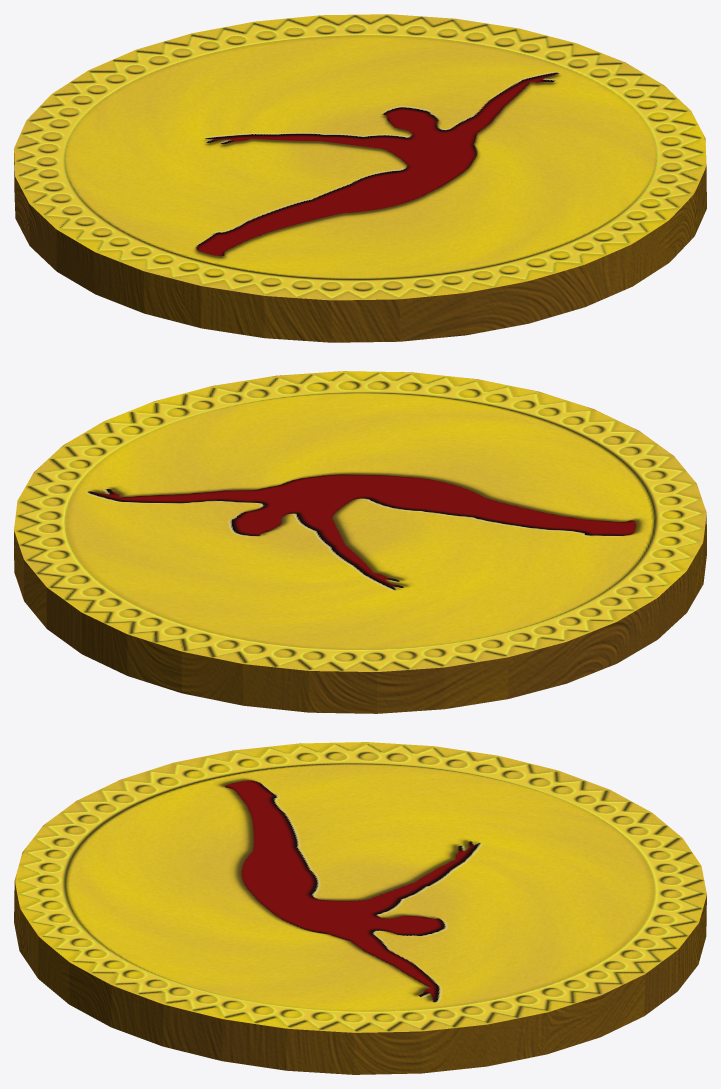
Rendered from groovecoin4.dae.
The picture shows the model from 3 angles, top to bottom: view 1: azimuth 30°, elevation 25°; view 2: azimuth 150°, elevation 25°; view 3: azimuth 270°, elevation 25°; orthographic projection.
Parts seen in each view (by area): view 1: Cylinder; view 2: Cylinder; view 3: Cylinder.
Boxes of the visible parts, x1,y1,x2,y2 form: Cylinder: (14, 14, 706, 342); Cylinder: (14, 371, 706, 713); Cylinder: (14, 742, 706, 1074).
Size of the model in its own units: 2 by 2 by 0.1623.
1 material, 1 textured.
